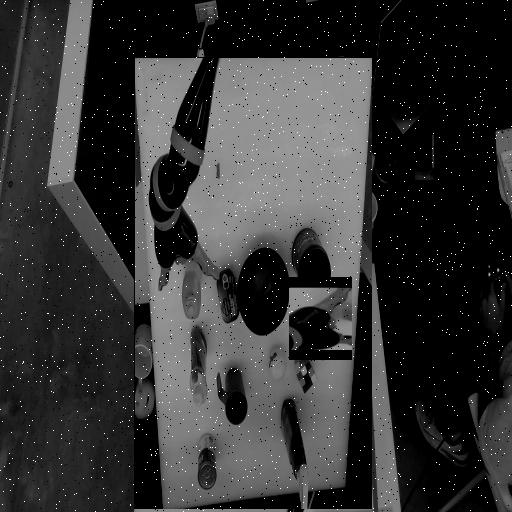bowl: (217, 250, 268, 302)
cleanser: (299, 193, 316, 209)
coffee_can: (175, 284, 214, 322)
jaco: (289, 287, 352, 350)
meat_can: (267, 244, 289, 298)
mug: (258, 156, 289, 186)
mustard_bottle: (306, 249, 324, 317)
rubik: (190, 185, 212, 207)
soup_can: (290, 97, 308, 115)
tennis_ball: (221, 188, 238, 218)
windex: (198, 49, 225, 167)
wooden_block: (170, 219, 195, 244)
workspace: (134, 58, 372, 509)
